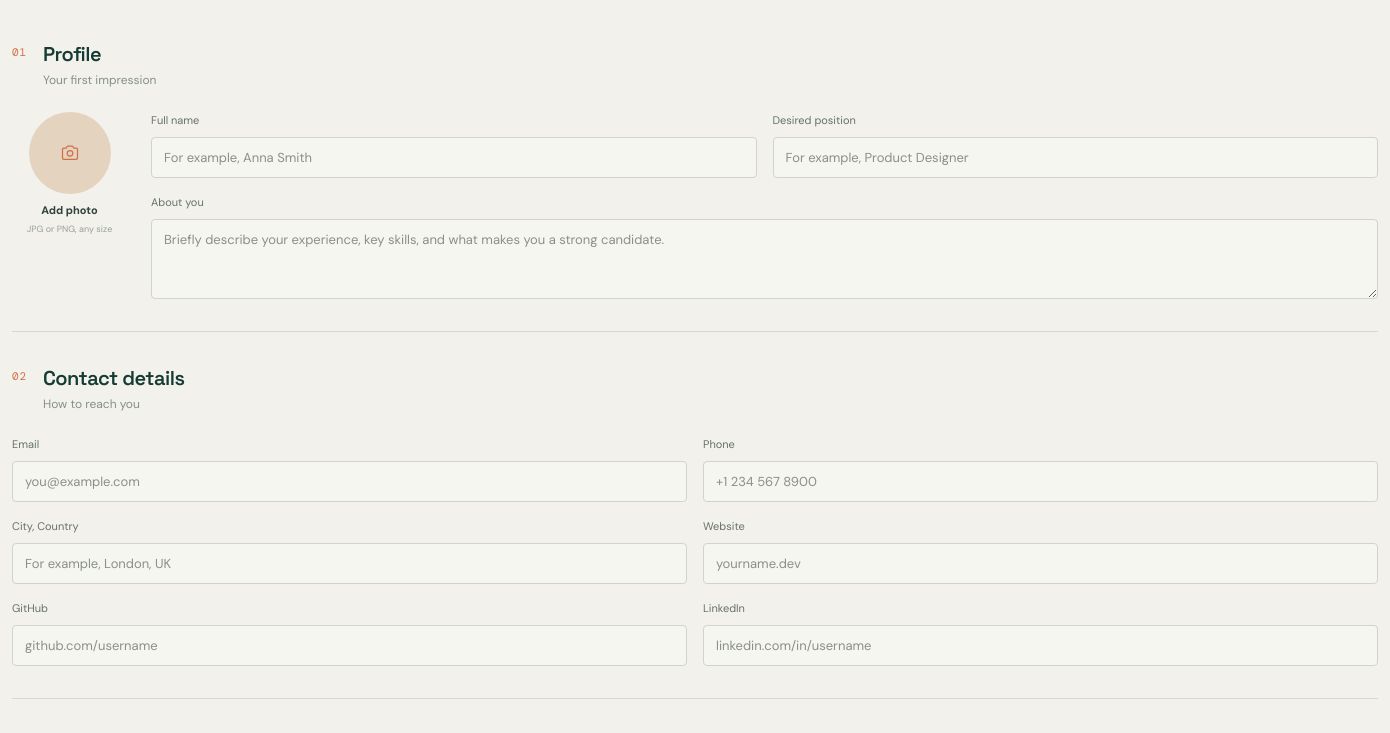
Scenario: ResumeForm - validation › surfaces a validation error once an invalid email is entered and the field is left
The width and height of the screenshot is (1390, 733).
In the field labelled "Email": (350, 481) [12,460,687,502], type "not-an-email"
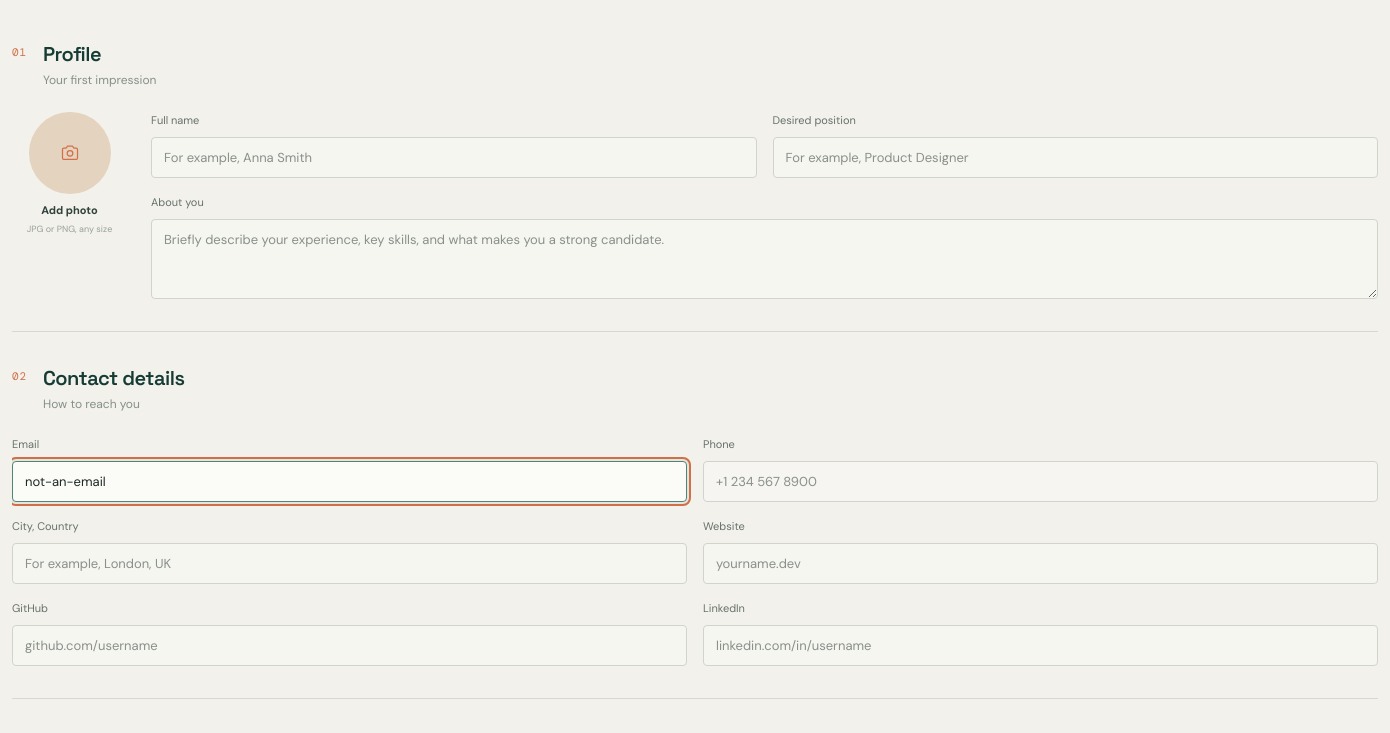
Press Tab
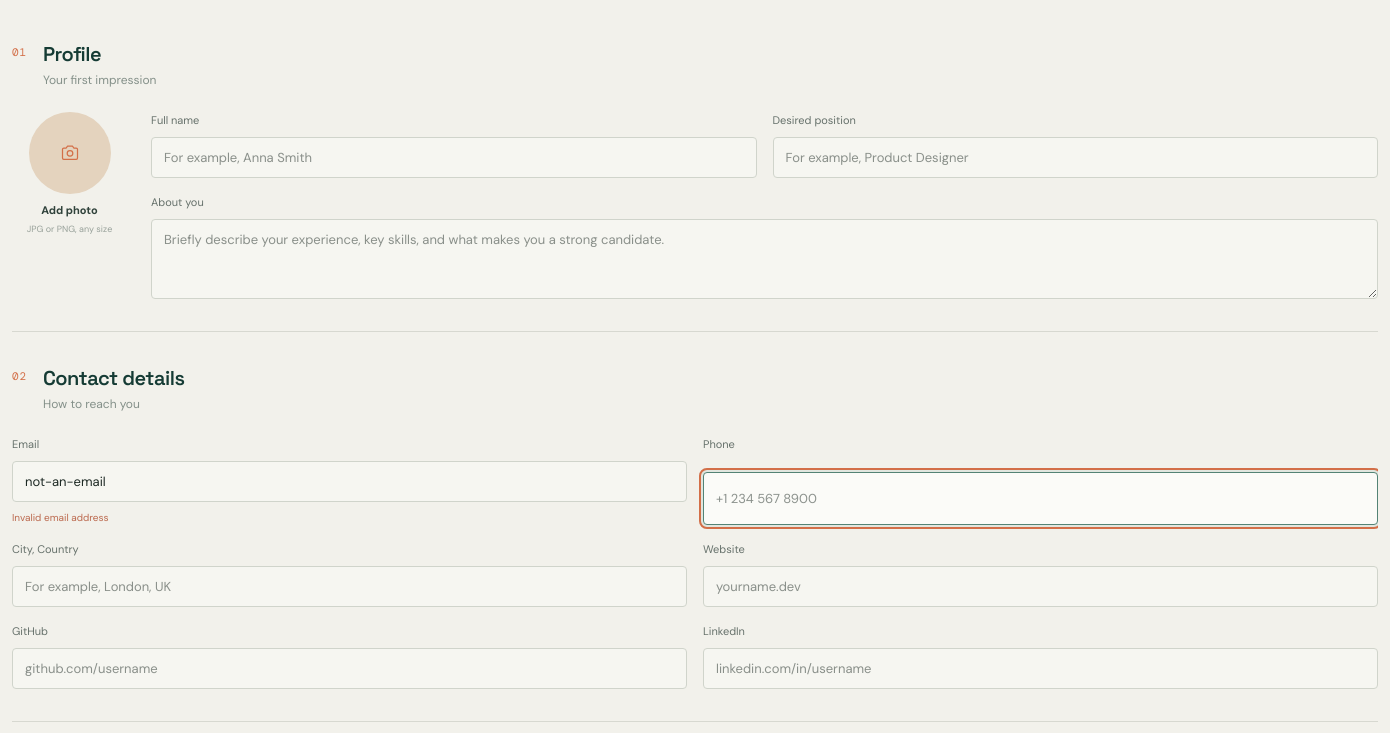
Result: the text "Invalid email address" is shown at [12,511,108,524]
